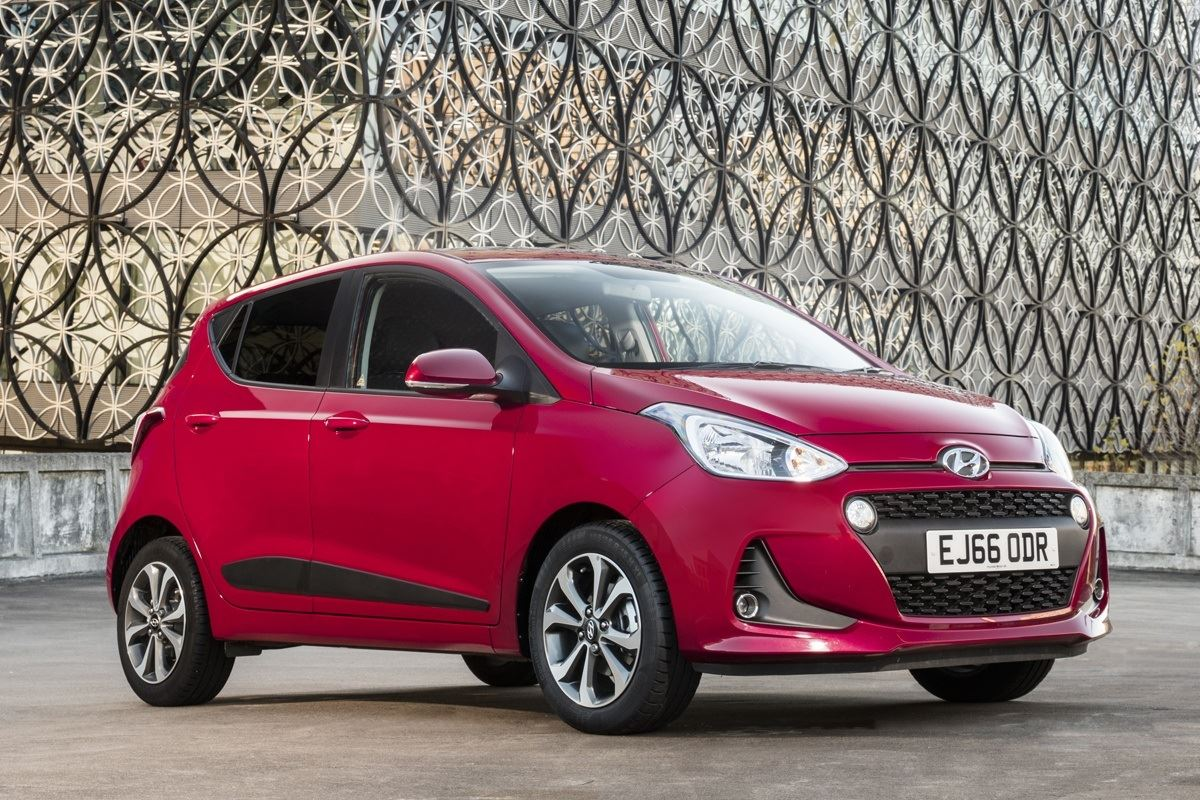Carro: (96, 264, 1156, 739)
